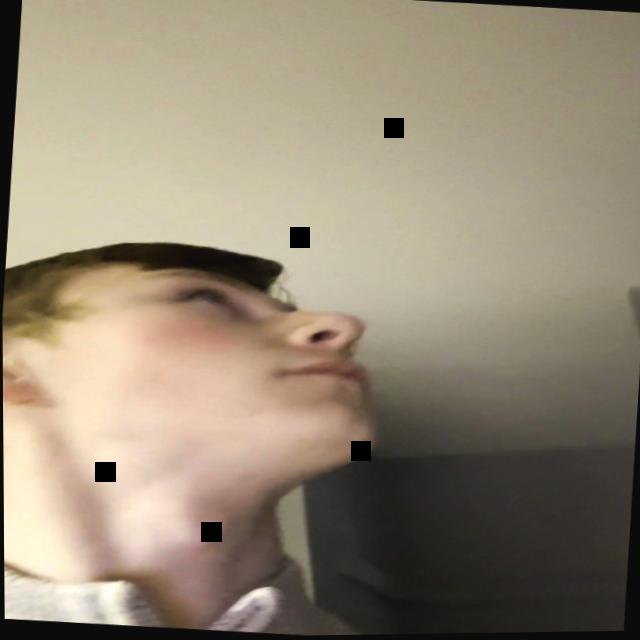NO-Mask: (1, 229, 397, 505)
